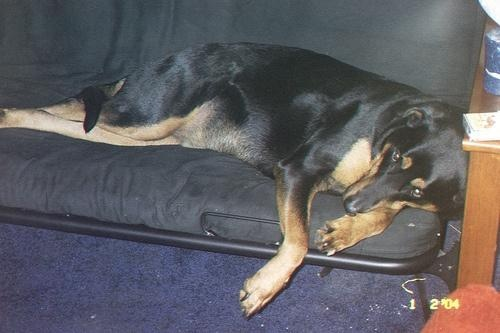dog: (1, 42, 472, 323)
sofa: (1, 1, 486, 326)
